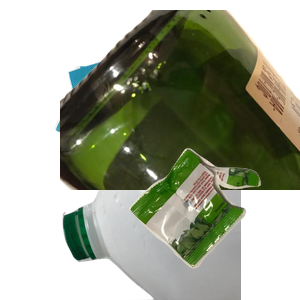glass: (60, 10, 300, 190)
paper: (52, 49, 209, 198)
plastic: (60, 120, 300, 300)
trash: (127, 146, 300, 300)
